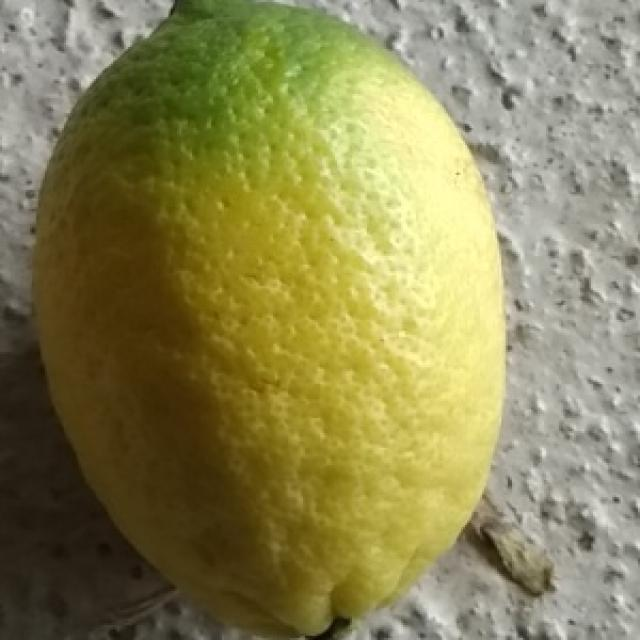Lemon: (28, 0, 516, 640)
